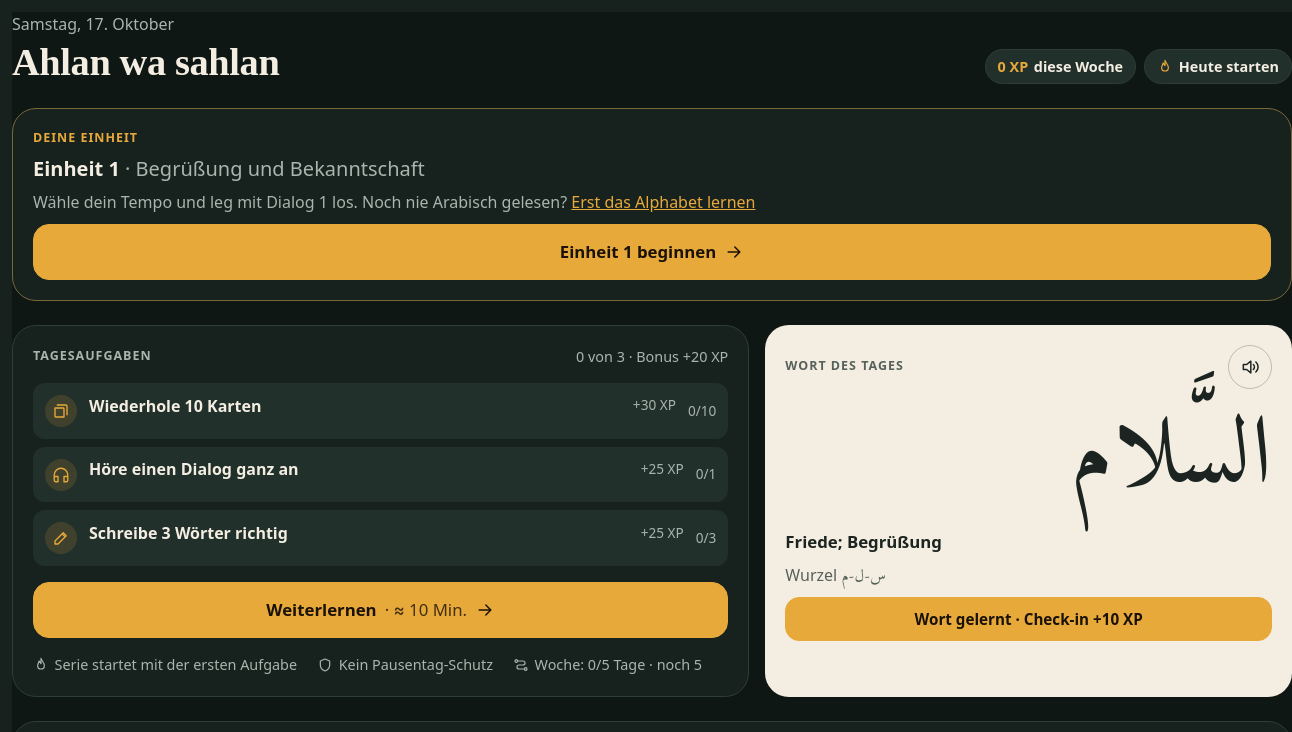
Test: Home (integration) › gives XP once a day for the check-in with the word of the day
The image size is (1292, 732).
Expected: the text "Friede; Begrüßung" is shown, [785,530,942,554]
Click the button "Wort gelernt · Check-in +10 XP": (1029, 619) [785,597,1272,641]
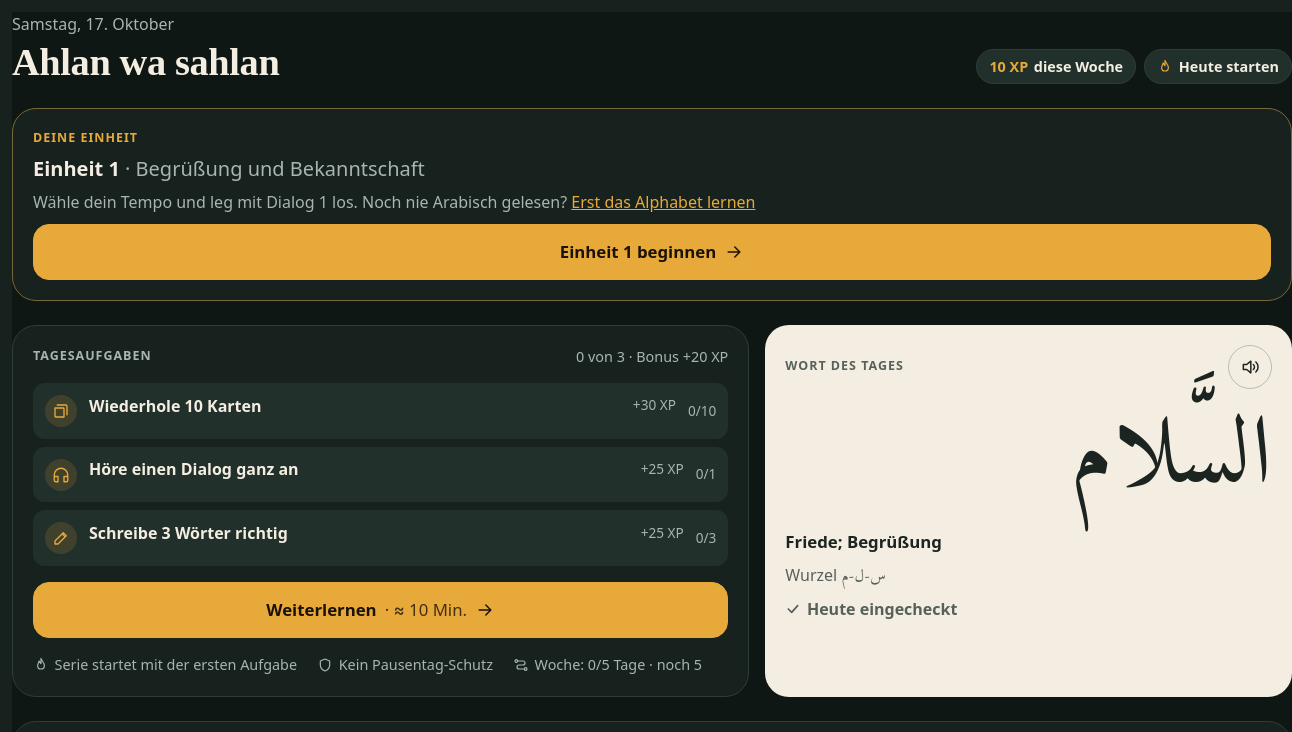
Expected: the text "Heute eingecheckt" is shown, [785,598,957,620]
Expected: the button "Check-in" is gone
